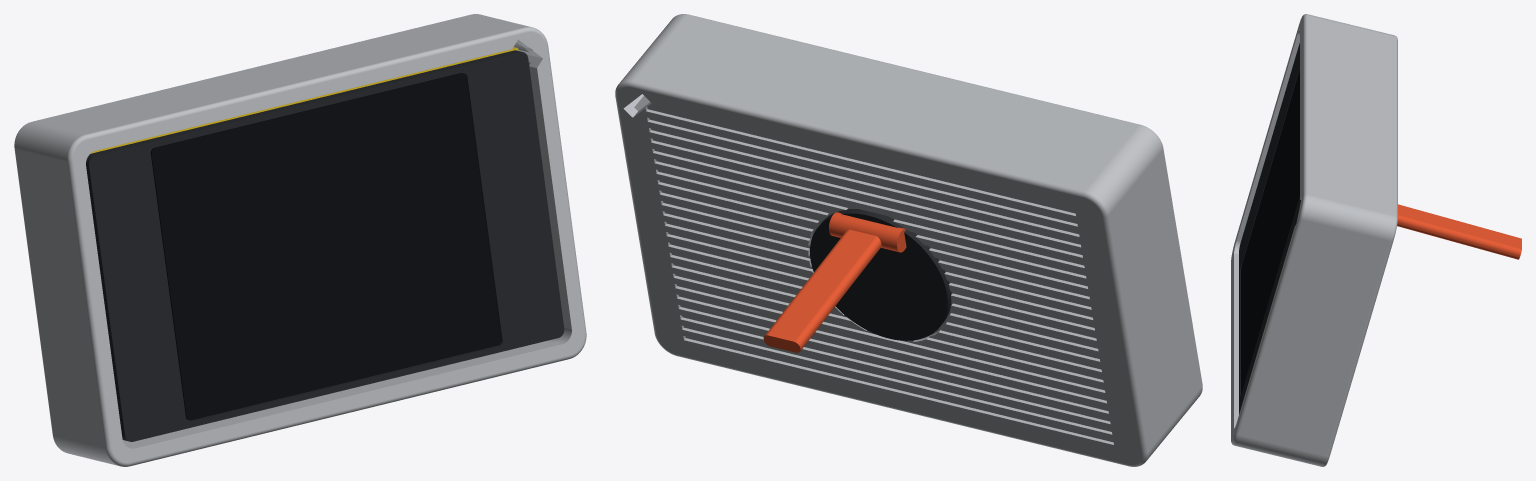
3 renders of one model, left to right at view 1: azimuth 30°, elevation 25°; view 2: azimuth 150°, elevation 25°; view 3: azimuth 270°, elevation 25°, orthographic. The views are drawn at different scales.
Visible parts, largest first — view 1: ekran, cerceve, panel, ic_kart; view 2: cerceve, tabla, cubuk_ayak; view 3: cerceve, ekran, panel, cubuk_ayak.
Boxes of the visible parts, <box> form: ekran: <box>150,73,501,420</box>; cerceve: <box>14,14,586,466</box>; panel: <box>86,50,564,441</box>; ic_kart: <box>90,47,518,153</box>; cerceve: <box>615,14,1202,466</box>; tabla: <box>810,209,951,340</box>; cubuk_ayak: <box>763,212,906,352</box>; cerceve: <box>1231,14,1397,466</box>; ekran: <box>1241,70,1299,393</box>; panel: <box>1239,43,1300,414</box>; cubuk_ayak: <box>1397,204,1521,259</box>.
Size of the model in its own units: 0.094 by 0.0608 by 0.0592.
